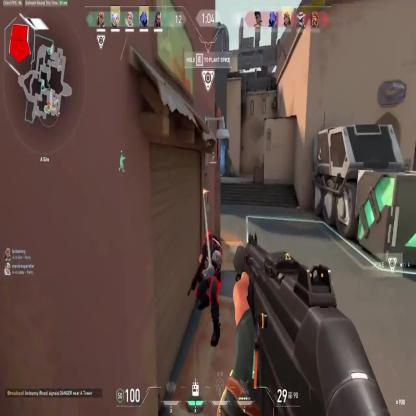enemy: (195, 231, 223, 347)
enemy_head: (204, 231, 212, 250)
